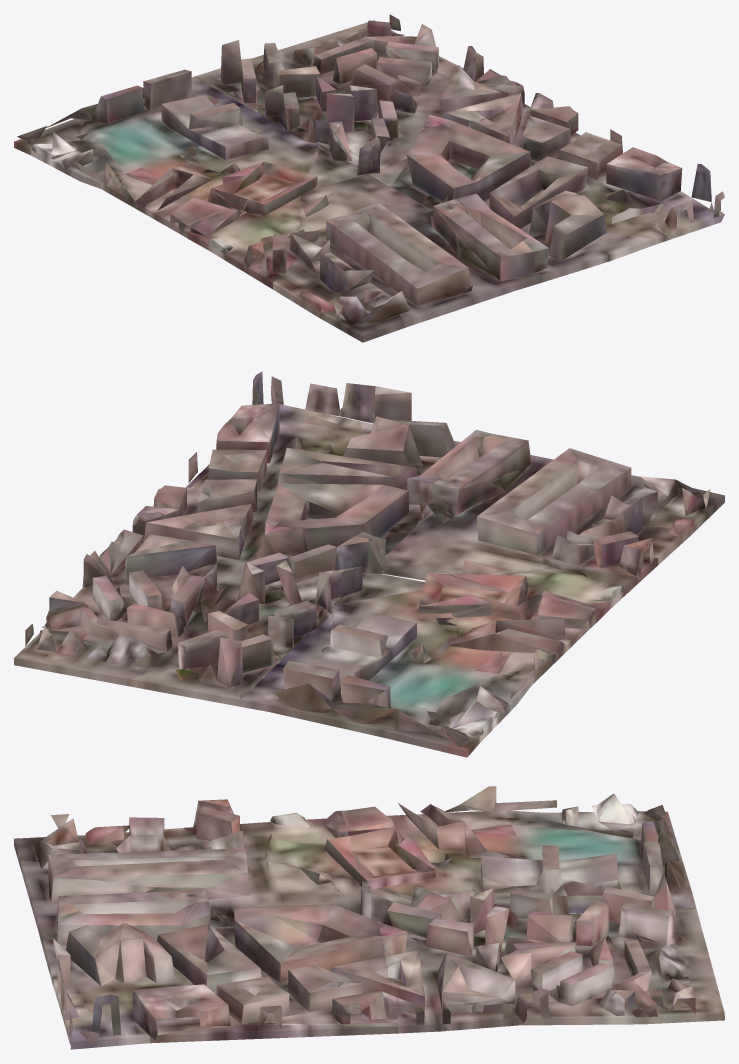
3 renders of one model, top to bottom at view 1: azimuth 30°, elevation 25°; view 2: azimuth 150°, elevation 25°; view 3: azimuth 270°, elevation 25°, orthographic. The views are drawn at different scales.
Visible parts, largest first — view 1: Mesh_0; view 2: Mesh_0; view 3: Mesh_0.
Boxes of the visible parts, left/top/right/bottom form: Mesh_0: left=14, top=14, right=724, bottom=342; Mesh_0: left=14, top=371, right=724, bottom=757; Mesh_0: left=14, top=786, right=724, bottom=1049.
Size of the model in its own units: 535 by 66.66 by 659.
2 materials, 2 textured.
